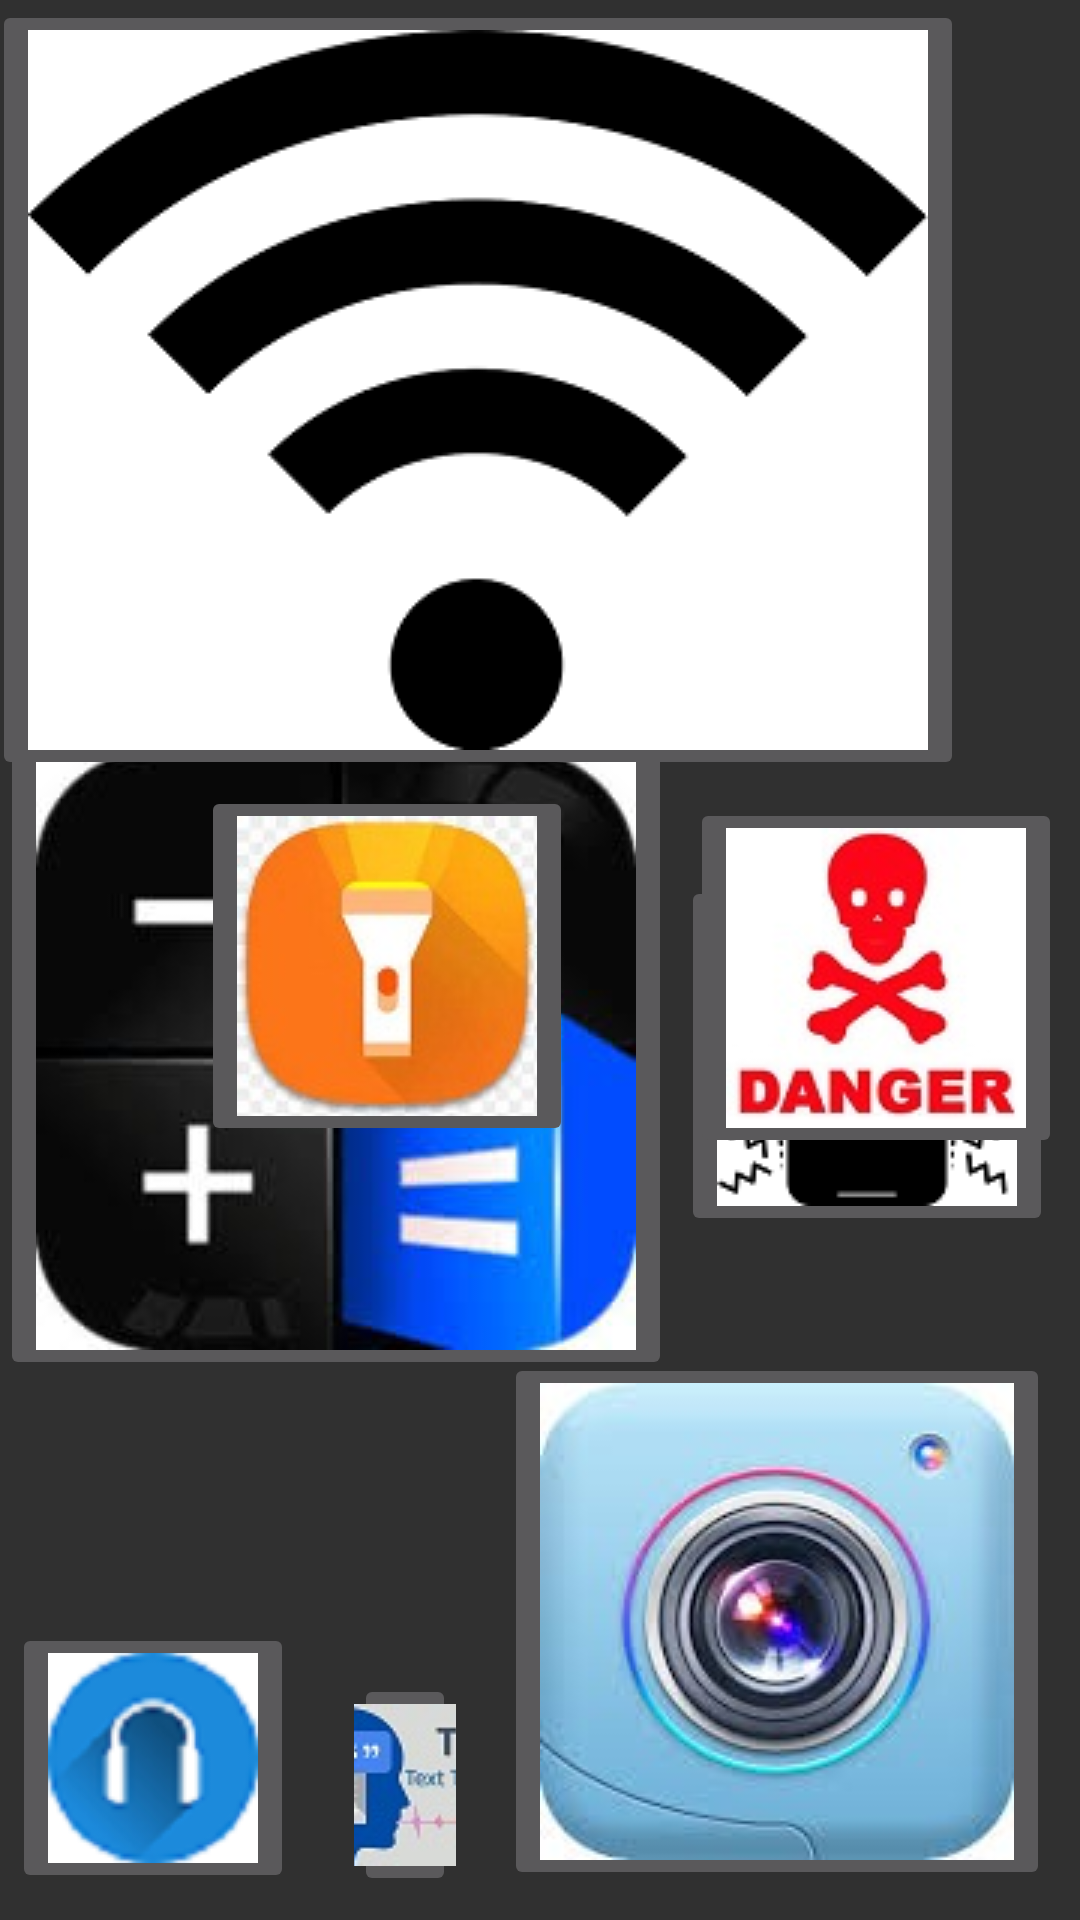

Where icons sit on this 1080*1920 app screen, as (x1, y1, x2, y2):
mpplayer: (24, 1641, 282, 1875)
